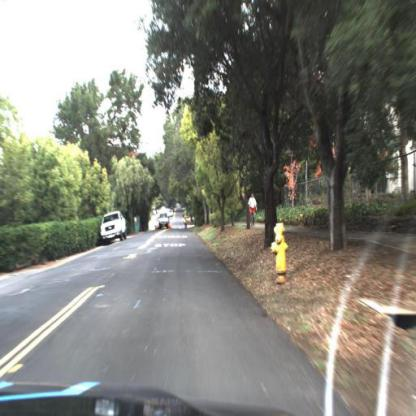car: (98, 208, 128, 247), (159, 207, 171, 231)
pedestrian: (248, 194, 259, 229)
